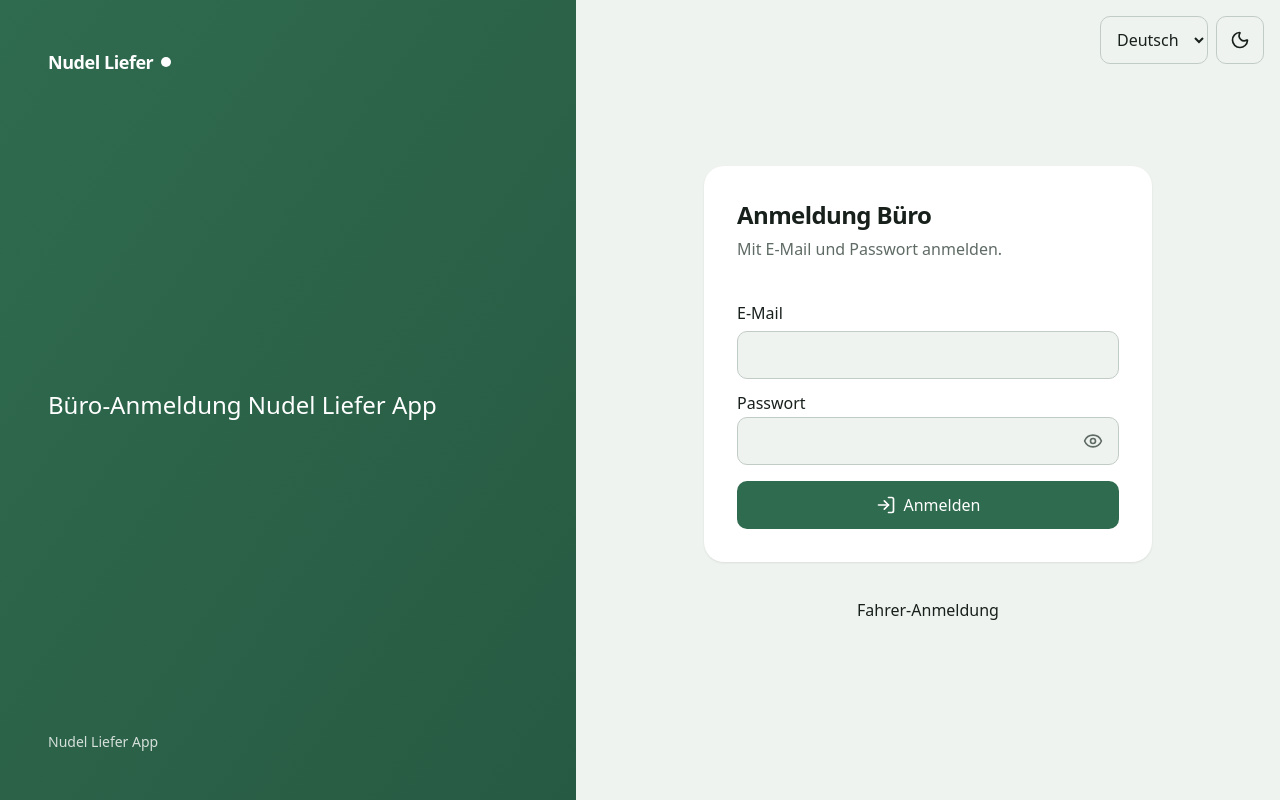
Test: office login › keeps the server error under data-testid=login-error
The width and height of the screenshot is (1280, 800).
Type "a@example.com" into the field labelled "E-Mail" at (928, 355), box [737,331,1119,379]
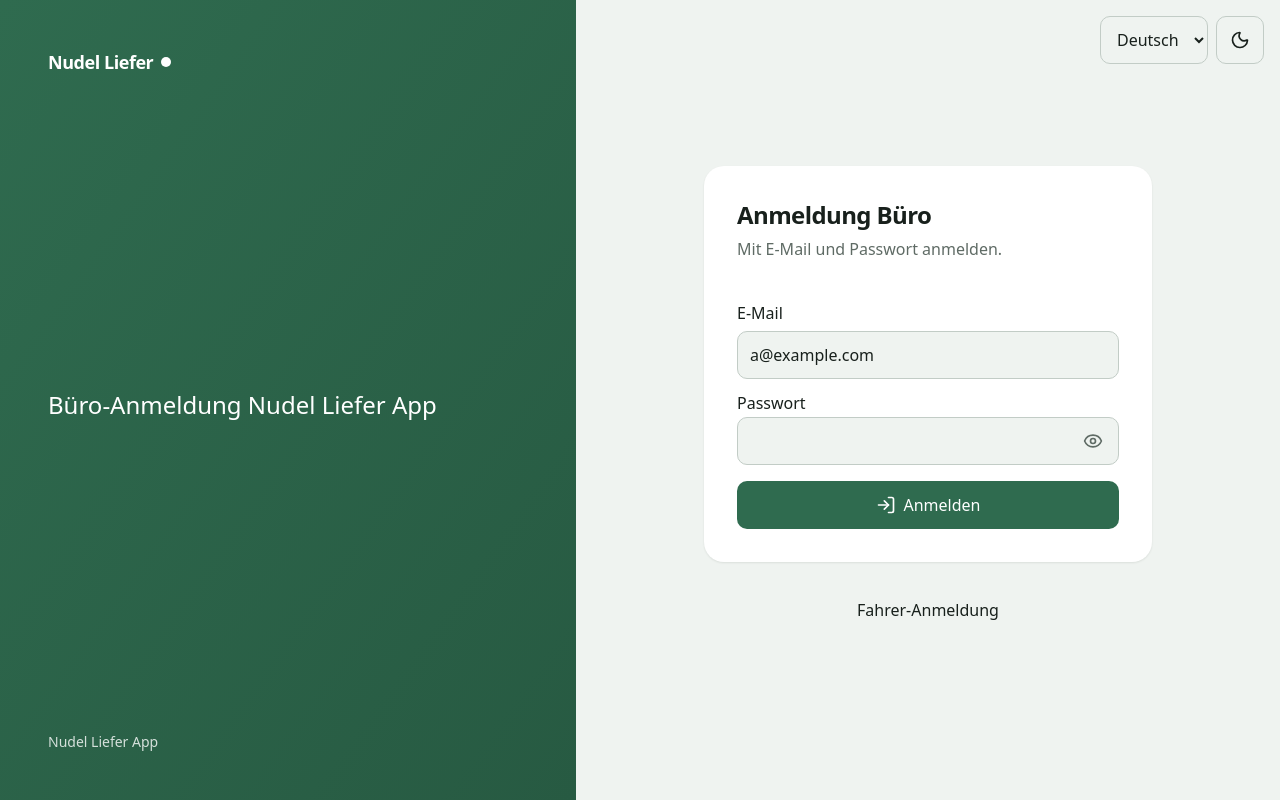
Type "secret" into the password field labelled "Passwort" at (928, 441), box [737,417,1119,465]
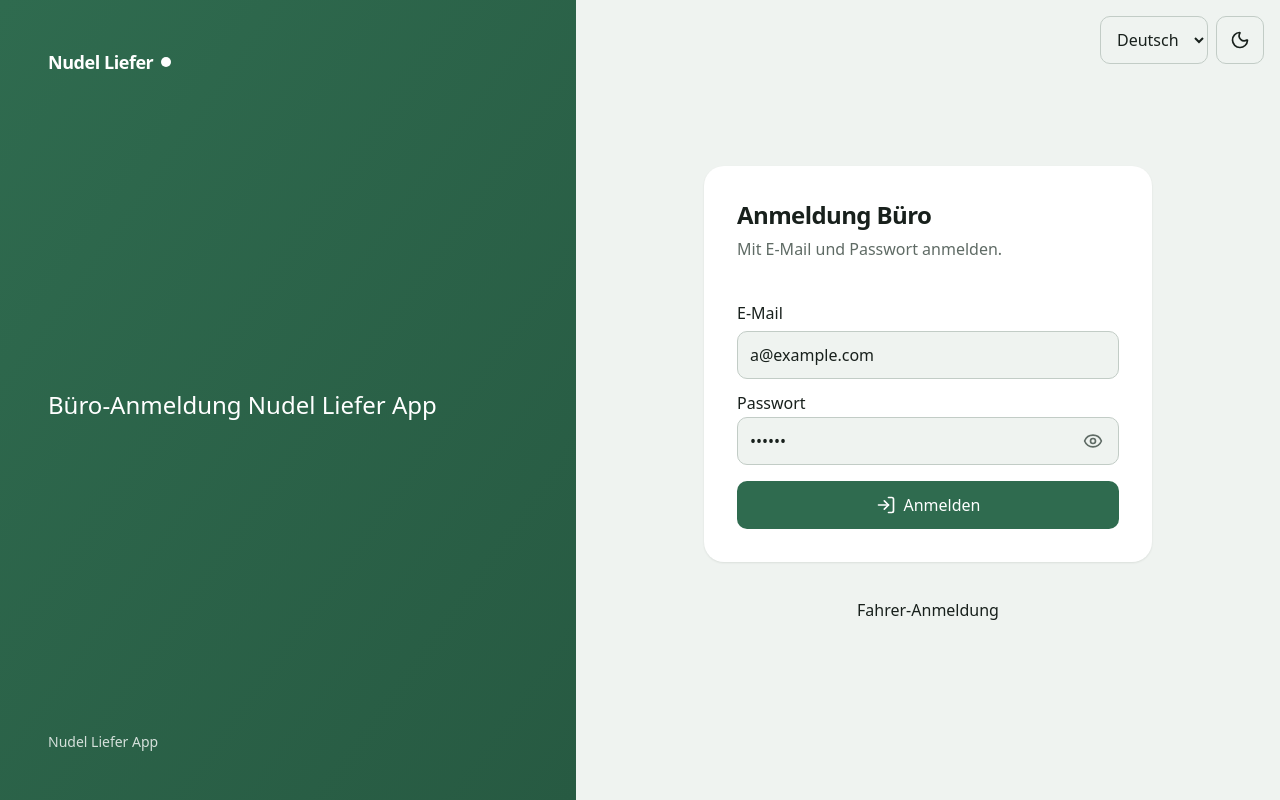
Submit the form with test id "admin-login-form", box [737,301,1119,529]
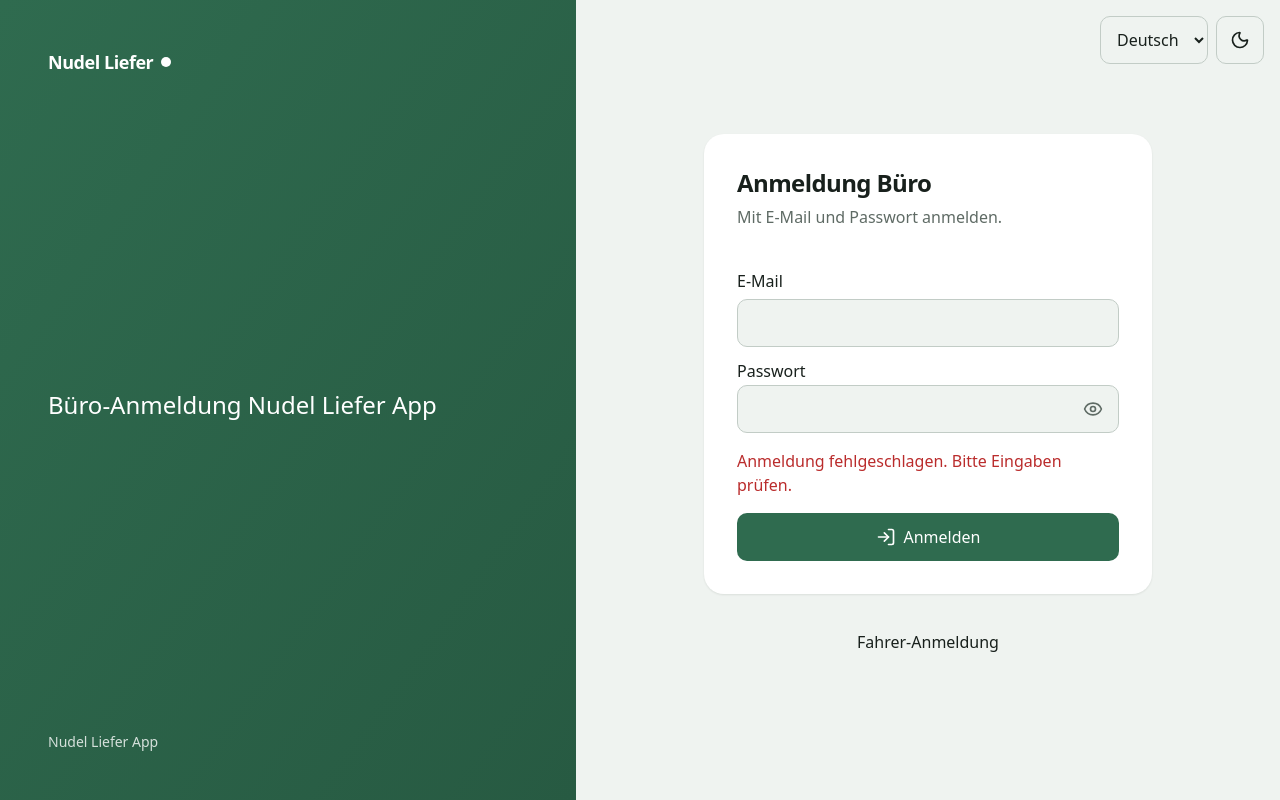
Expected: the message with test id "login-error" reads "Anmeldung fehlgeschlagen. Bitte Eingaben prüfen.", [737,450,1062,496]
